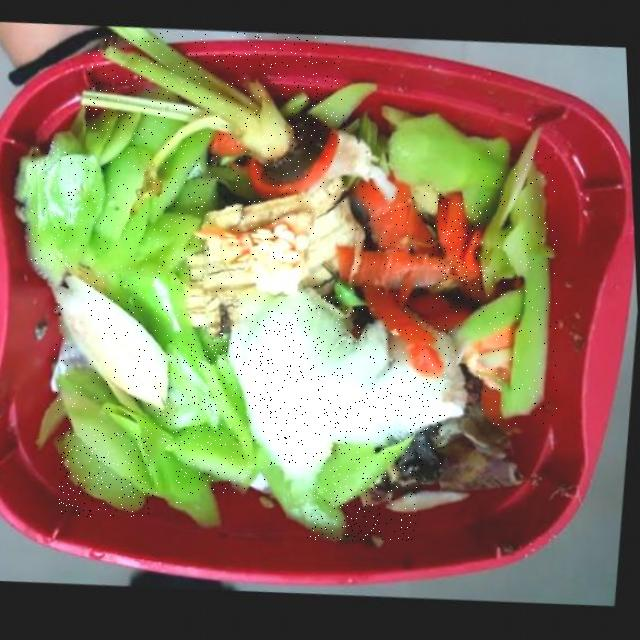biowaste: (87, 31, 345, 205), (234, 296, 446, 465), (480, 150, 557, 425), (61, 369, 193, 503), (54, 275, 171, 412), (160, 322, 252, 446), (117, 181, 220, 291), (306, 444, 417, 540), (212, 203, 321, 300), (77, 263, 191, 352), (30, 149, 113, 267), (101, 124, 178, 241), (362, 285, 460, 375), (59, 433, 152, 516), (351, 185, 446, 265), (341, 257, 486, 308), (173, 428, 266, 494), (438, 200, 488, 291)
